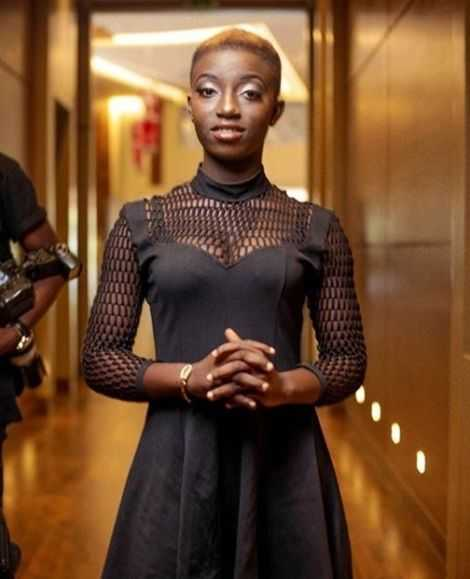happy: (187, 53, 278, 156)
